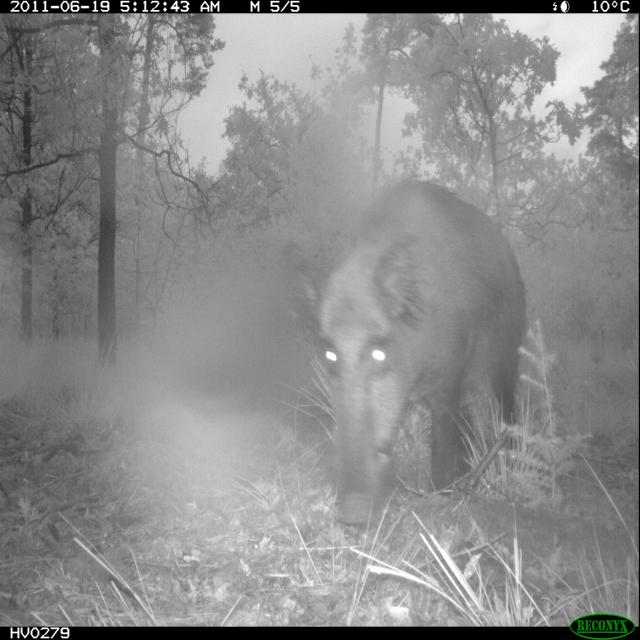boar: (264, 142, 548, 530)
